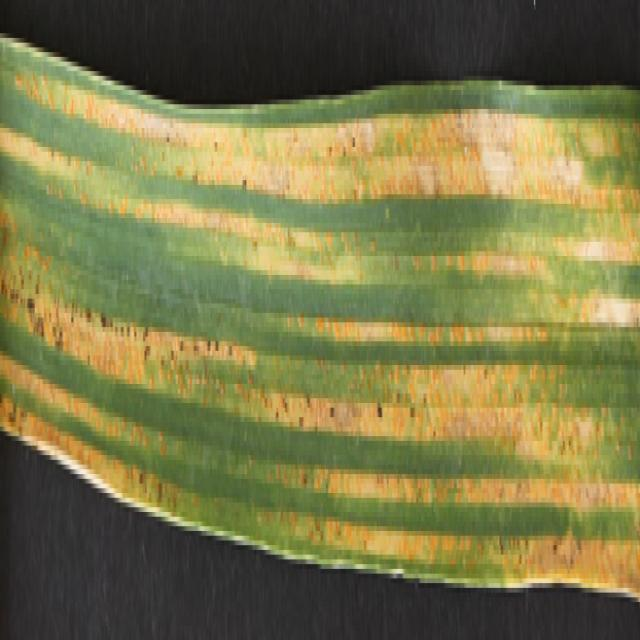leaf rust: (1, 38, 640, 597)
